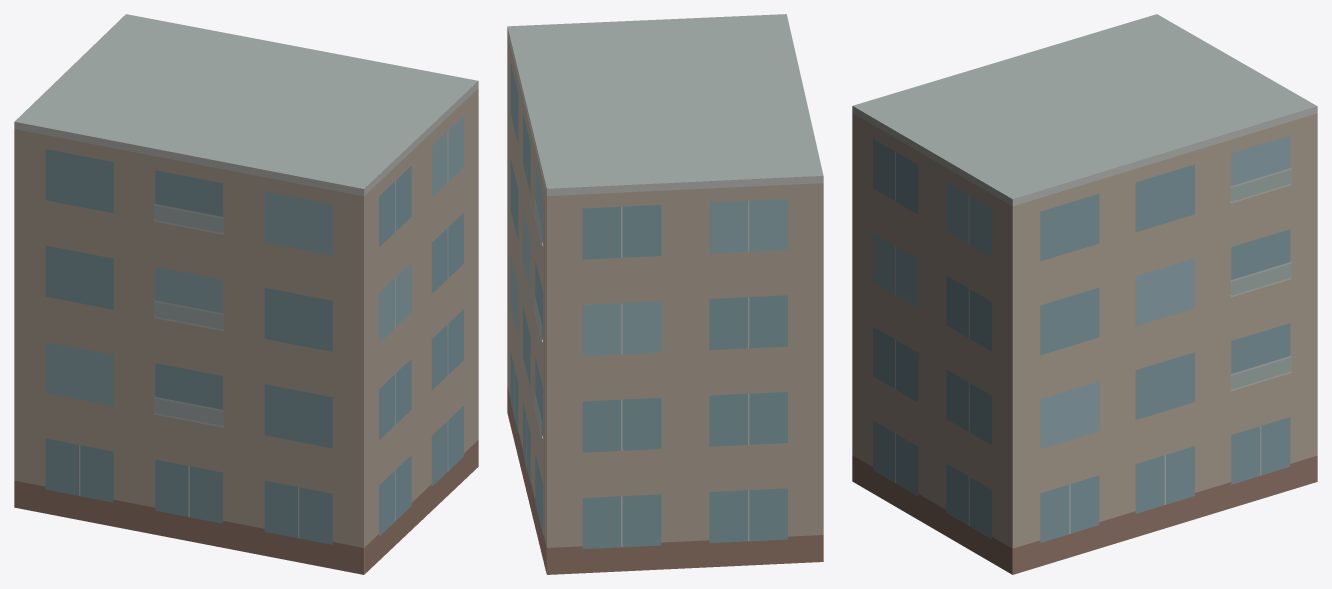
File: survey-upis-32906327.glb
3 views of the same model, side by side, from view 1: azimuth 30°, elevation 25°; view 2: azimuth 150°, elevation 25°; view 3: azimuth 270°, elevation 25° (orthographic). The views are drawn at different scales.
Visible parts, largest first — view 1: survey-upis-32906327.tmp; view 2: survey-upis-32906327.tmp; view 3: survey-upis-32906327.tmp.
Part boxes in pixels (box(x1,y1,x2,y2)): survey-upis-32906327.tmp: box(14, 14, 478, 574); survey-upis-32906327.tmp: box(507, 14, 823, 574); survey-upis-32906327.tmp: box(852, 14, 1317, 574).
Bounding box in the file's own units: 13.6 × 12.85 × 14.43.
